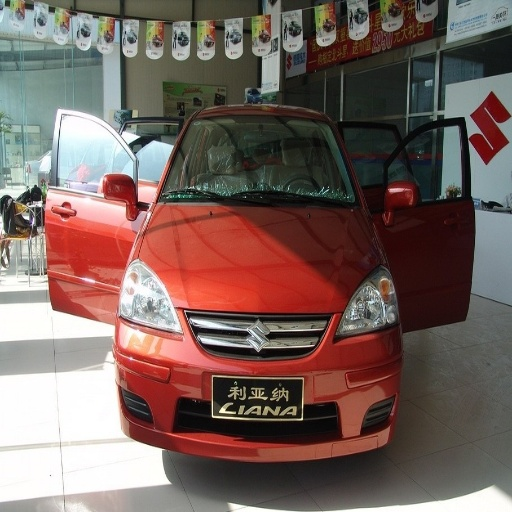front_bumper: (115, 308, 398, 460)
front_left_light: (336, 268, 398, 339)
front_right_door: (59, 112, 132, 235)
front_right_light: (120, 260, 184, 336)
hood: (144, 203, 372, 311)
